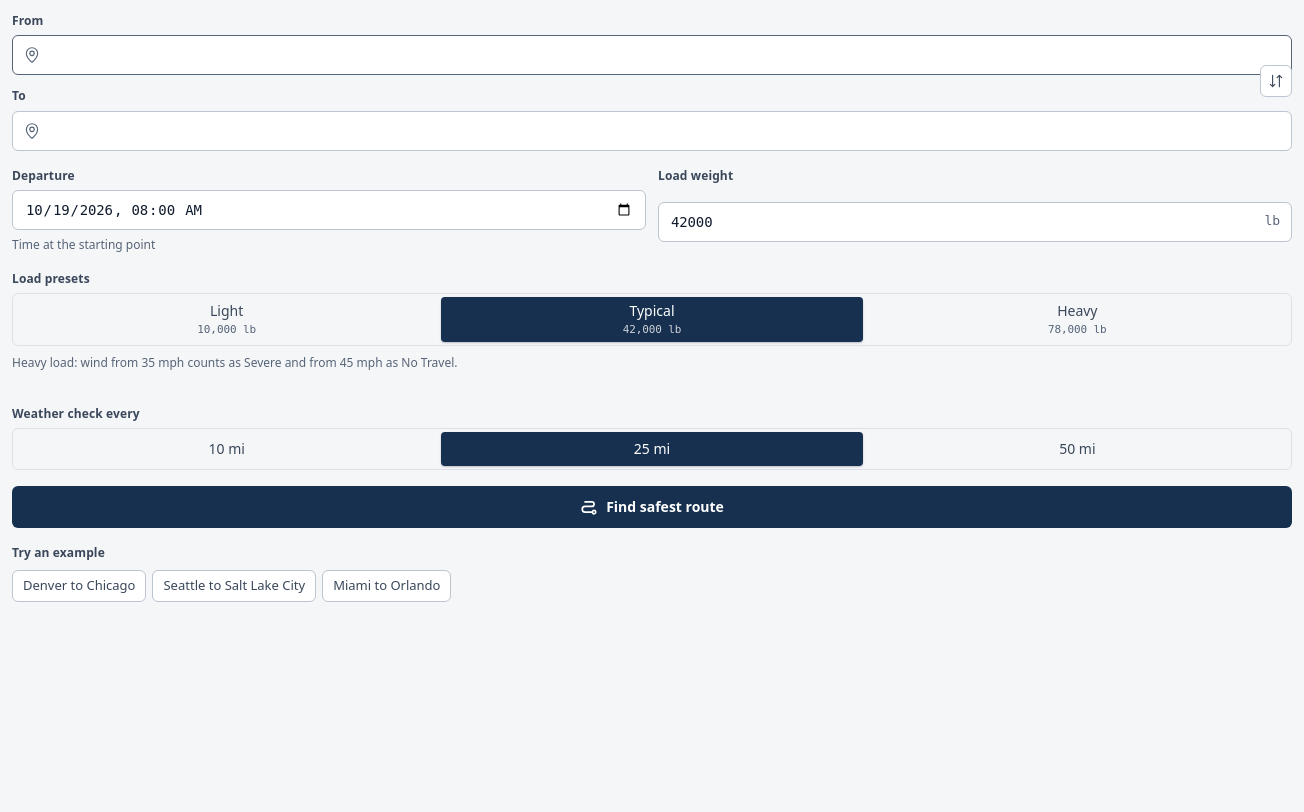
TripForm › does not submit an empty form and explains what is missing
Click the button "Find safest route": {"x": 652, "y": 507} [12,486,1292,528]
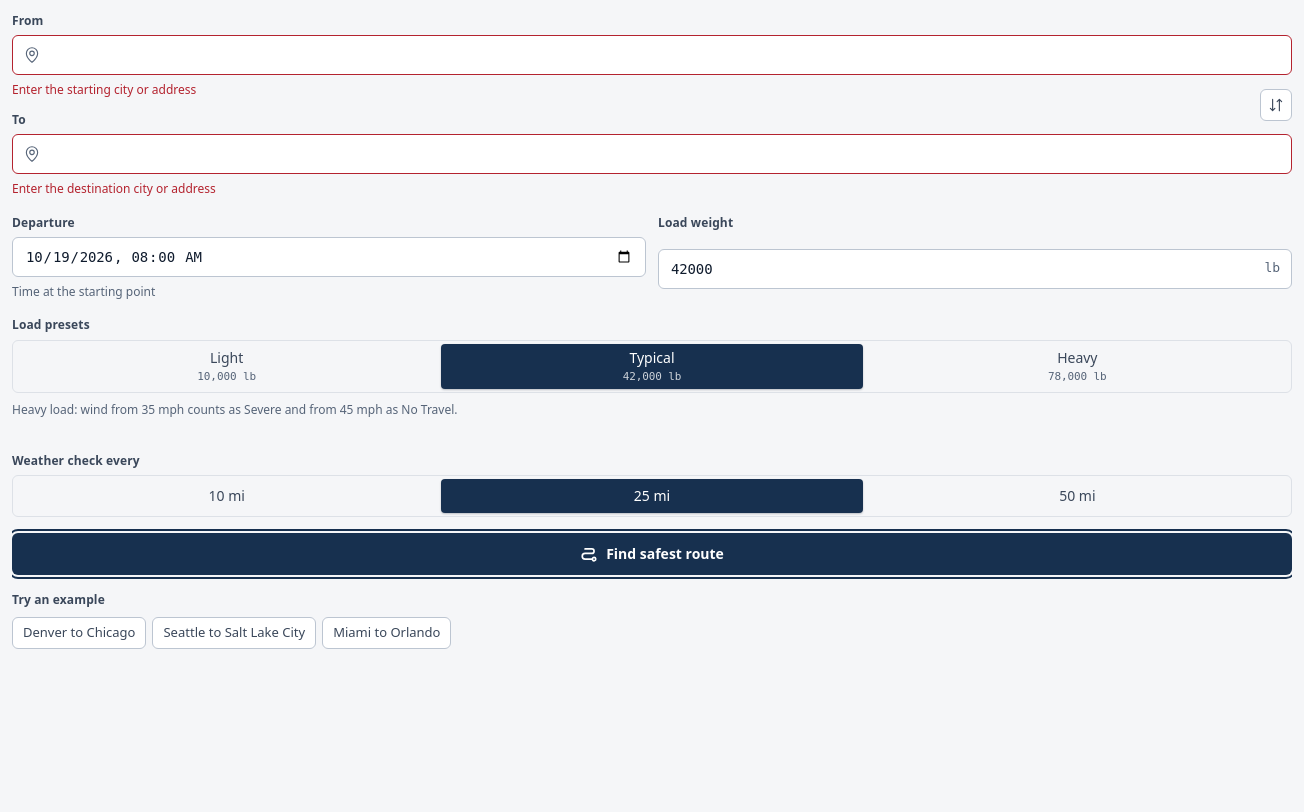
Expected: the message "Enter the starting city or address" is shown, [12,81,196,98]
Expected: the message "Enter the destination city or address" is shown, [12,180,216,197]
